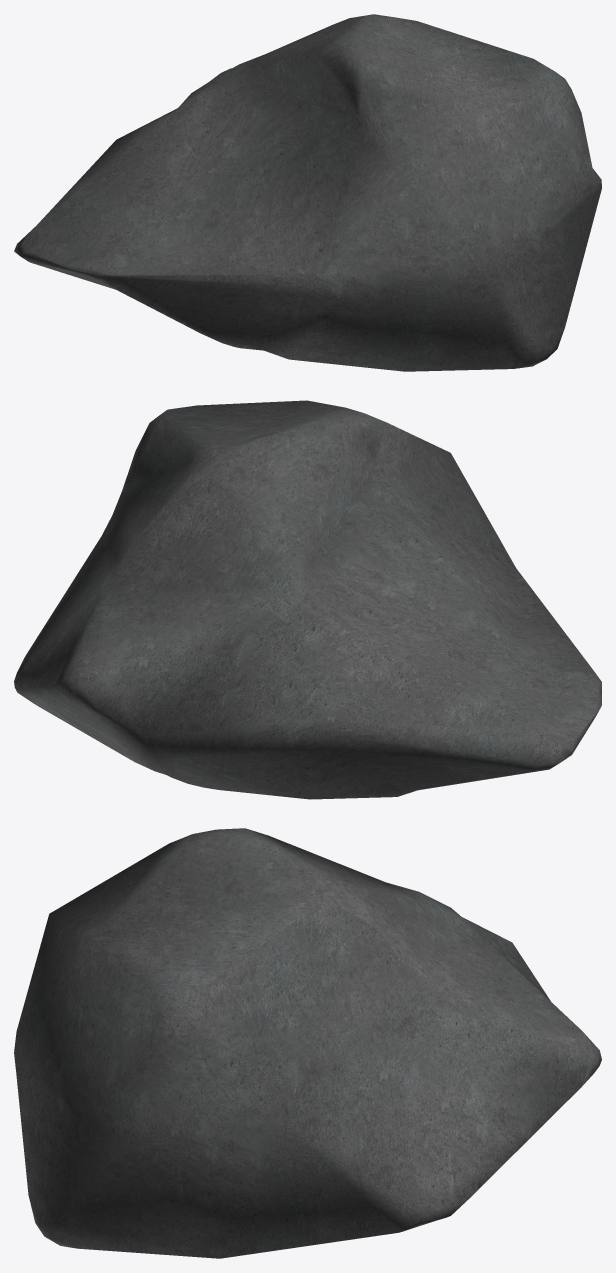
The model's file is rock.008.obj.
3 renders of one model, top to bottom at view 1: azimuth 30°, elevation 25°; view 2: azimuth 150°, elevation 25°; view 3: azimuth 270°, elevation 25°, orthographic. The views are drawn at different scales.
Bounding box in the file's own units: 1.51 × 0.8861 × 1.34.
Materials: 1 (1 with a texture image).
